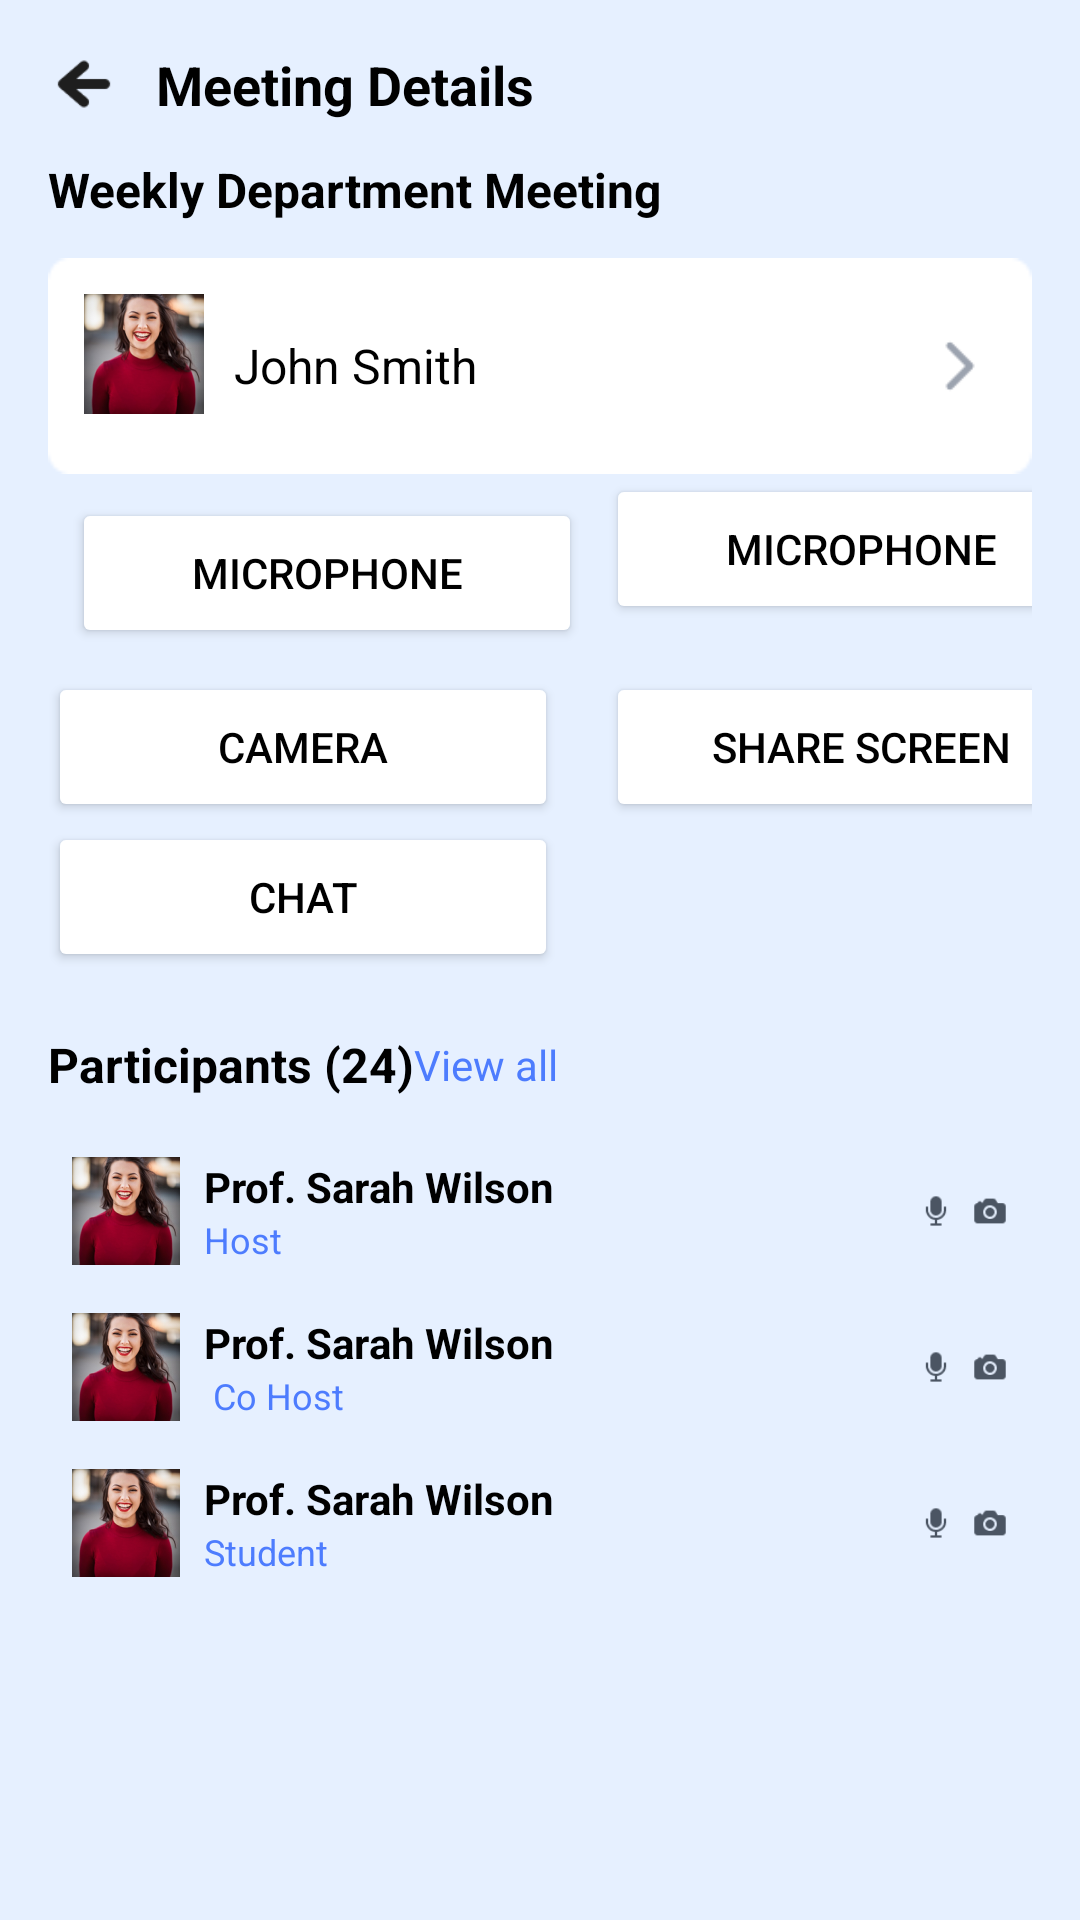

Where to tap for icons on this 1080×1920 app screen, as point (x, y):
Back: point (84, 84)
Go: point (960, 366)
